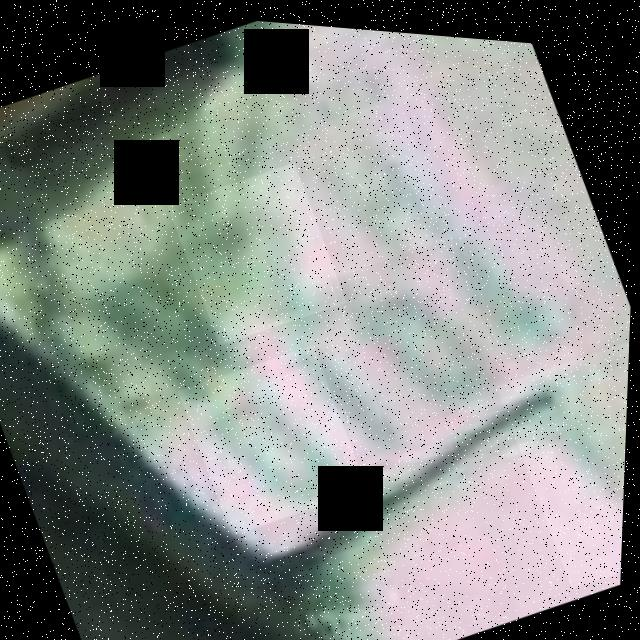0: (327, 220, 522, 436), (176, 330, 375, 540)
1: (254, 274, 448, 492)
4: (405, 172, 597, 387)
7: (492, 321, 632, 581)
B: (288, 82, 466, 293)
N: (80, 221, 269, 437)
Z: (164, 149, 352, 349)
